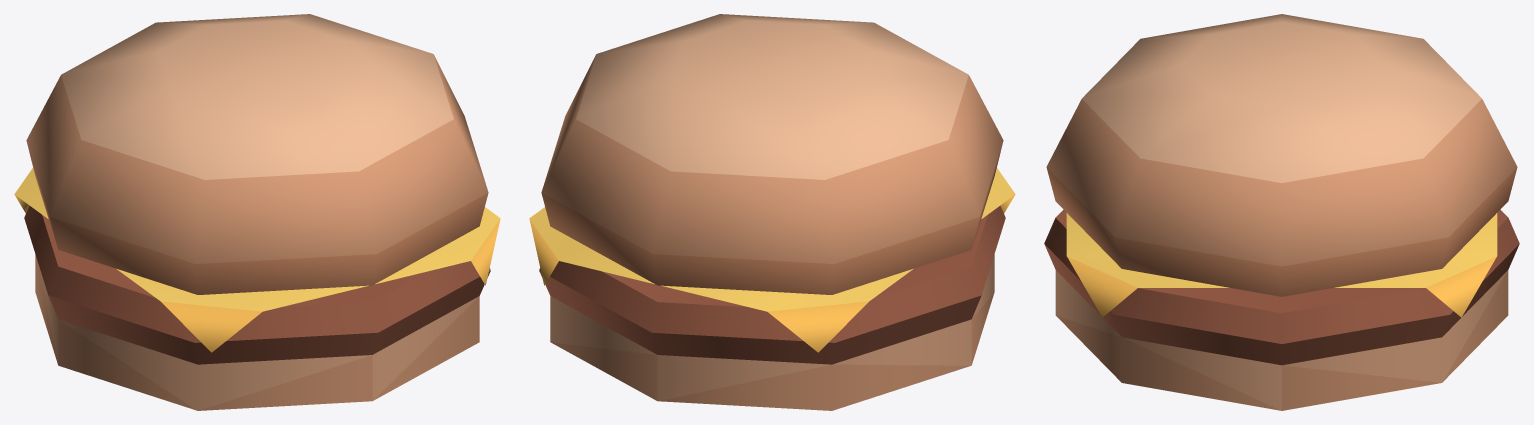
File: hamburguer.glb
The picture shows the model from 3 angles, left to right: view 1: azimuth 30°, elevation 25°; view 2: azimuth 150°, elevation 25°; view 3: azimuth 270°, elevation 25°; orthographic projection.
Parts seen in each view (by area): view 1: bun-bottom, patty, cheese; view 2: bun-bottom, patty, cheese; view 3: bun-bottom, patty, cheese.
Boxes of the visible parts, x1,y1,x2,y2 form: bun-bottom: (26,14,488,410); patty: (24,206,490,364); cheese: (14,168,500,352); bun-bottom: (541,14,1003,410); patty: (539,206,1005,364); cheese: (529,168,1015,352); bun-bottom: (1046,14,1517,410); patty: (1044,209,1519,365); cheese: (1066,213,1497,317).
Size of the model in its own units: 0.378 by 0.22 by 0.378.
